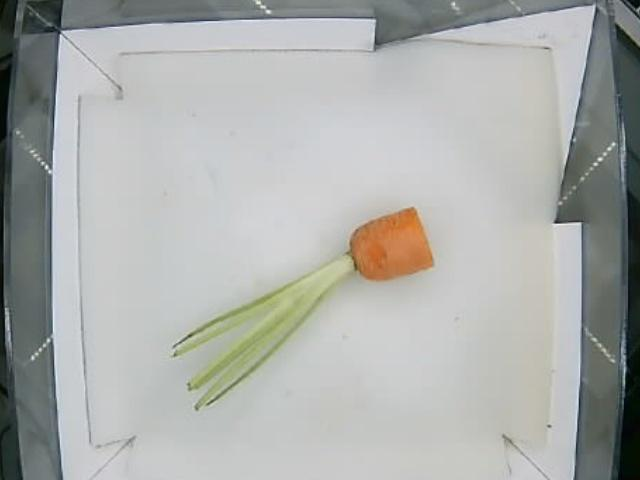Carrot: (298, 207, 432, 310)
